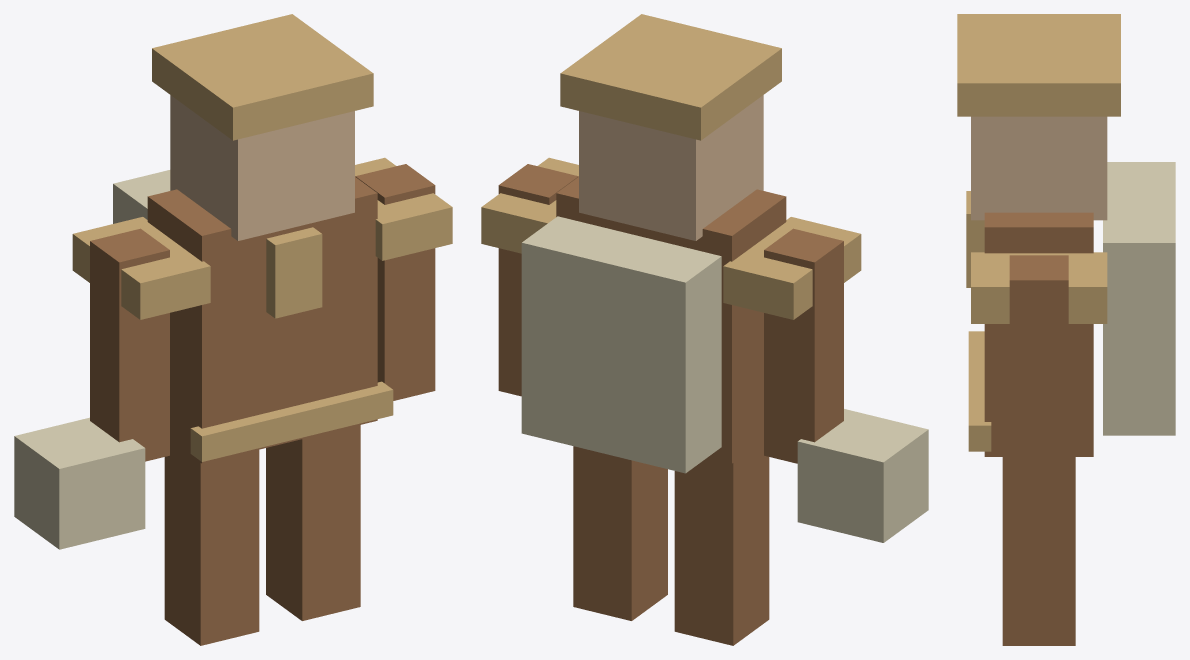
The model's file is 14_tovin_brightlock_smith_near_echo.glb.
The picture shows the model from 3 angles, left to right: view 1: azimuth 30°, elevation 25°; view 2: azimuth 150°, elevation 25°; view 3: azimuth 270°, elevation 25°; orthographic projection.
Visible parts, largest first — view 1: Tovin Brightlock, Smith near Echo; view 2: Tovin Brightlock, Smith near Echo; view 3: Tovin Brightlock, Smith near Echo.
Part boxes in pixels (x1=…): Tovin Brightlock, Smith near Echo: x1=14, y1=14, x2=452, y2=645; Tovin Brightlock, Smith near Echo: x1=481, y1=14, x2=928, y2=645; Tovin Brightlock, Smith near Echo: x1=957, y1=14, x2=1175, y2=645.
Bounding box in the file's own units: 1.08 × 1.47 × 0.5225.
